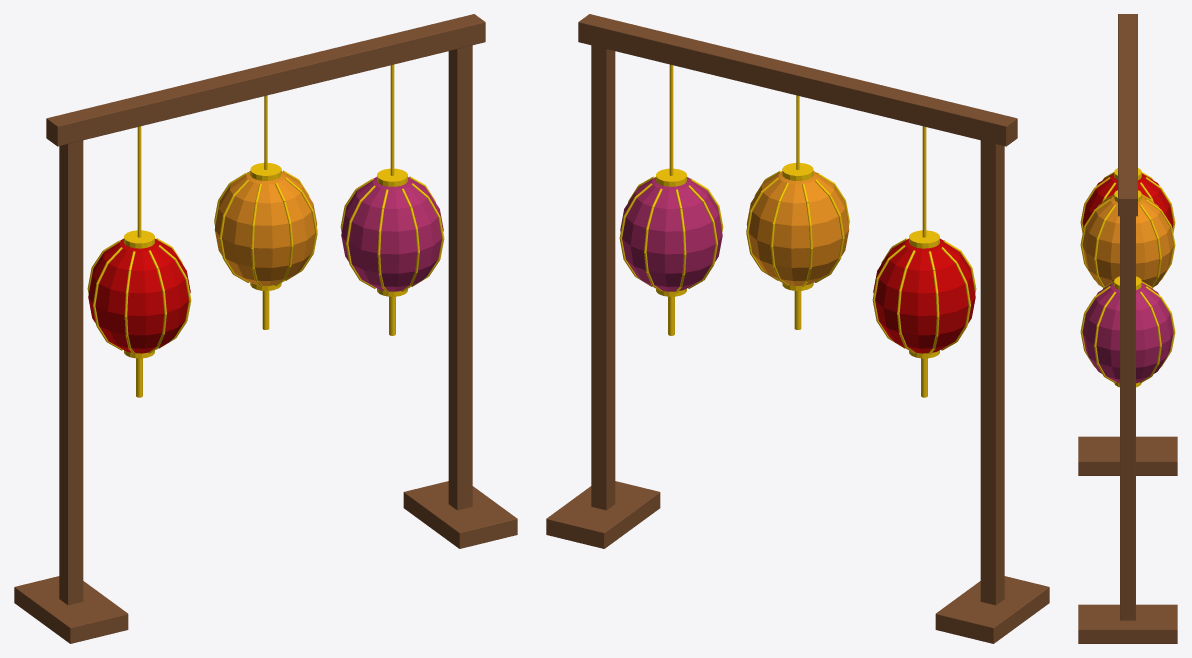
The model's file is parent.glb.
3 renders of one model, left to right at view 1: azimuth 30°, elevation 25°; view 2: azimuth 150°, elevation 25°; view 3: azimuth 270°, elevation 25°, orthographic. The views are drawn at different scales.
Parts seen in each view (by area): view 1: Crossbar, Post, Post.001, Lantern_2_Body, Lantern_1_Body, Lantern_0_Body, Foot.001, Foot; view 2: Crossbar, Post, Post.001, Lantern_2_Body, Lantern_1_Body, Lantern_0_Body, Foot.001, Foot; view 3: Post.001, Lantern_2_Body, Lantern_1_Body, Crossbar, Foot.001, Foot, Lantern_0_Body.
Boxes of the visible parts, box(x1,y1,x2,y2) form: Crossbar: box(46, 14, 485, 146); Post: box(59, 140, 83, 605); Post.001: box(448, 45, 472, 510); Lantern_2_Body: box(341, 177, 443, 291); Lantern_1_Body: box(214, 171, 317, 285); Lantern_0_Body: box(88, 238, 190, 353); Foot.001: box(403, 481, 517, 548); Foot: box(14, 576, 128, 643); Crossbar: box(578, 14, 1017, 146); Post: box(980, 140, 1004, 605); Post.001: box(591, 45, 615, 510); Lantern_2_Body: box(620, 177, 722, 291); Lantern_1_Body: box(746, 171, 849, 285); Lantern_0_Body: box(873, 238, 975, 353); Foot.001: box(546, 481, 660, 548); Foot: box(935, 576, 1049, 643); Post.001: box(1120, 216, 1135, 620); Lantern_2_Body: box(1082, 283, 1173, 383); Lantern_1_Body: box(1082, 196, 1173, 286); Crossbar: box(1118, 14, 1137, 216); Foot.001: box(1078, 604, 1177, 643); Foot: box(1078, 436, 1177, 475); Lantern_0_Body: box(1082, 174, 1173, 228).
Size of the model in its own units: 2.3 by 2.45 by 0.5.
